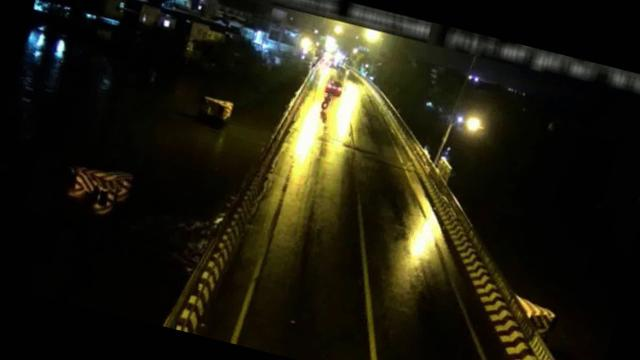Bike: (320, 93, 332, 112)
Car: (322, 76, 343, 97)
